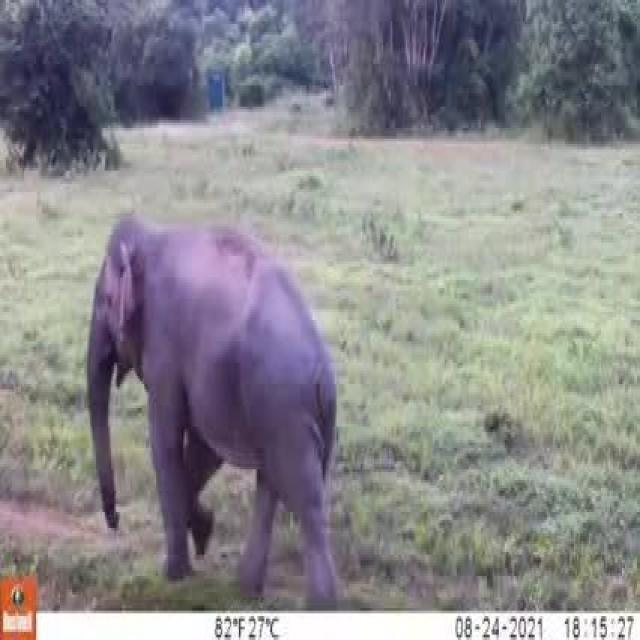Elephant: (75, 203, 326, 527)
